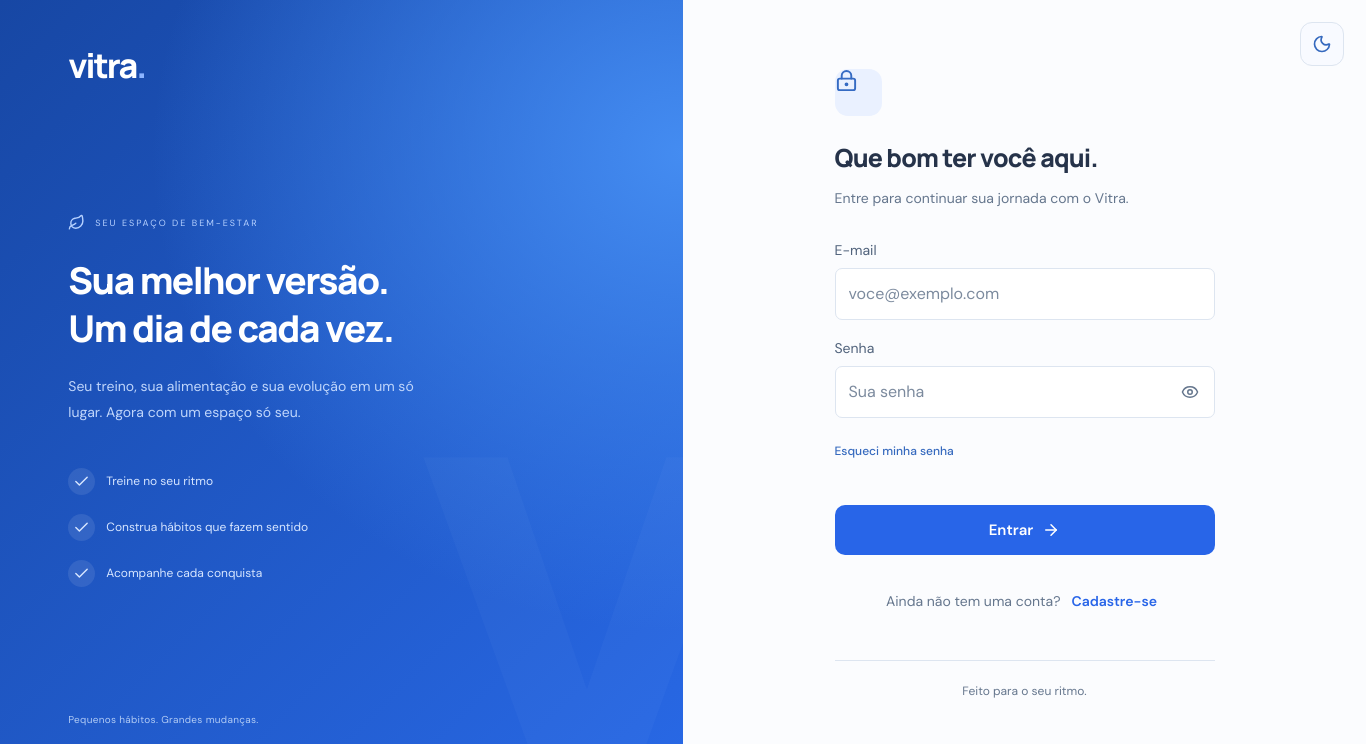
Autenticação › não envia cadastro com confirmação de senha diferente
Click the button "Cadastre-se" at coordinates (1114, 601), box [1066,579,1163,623]
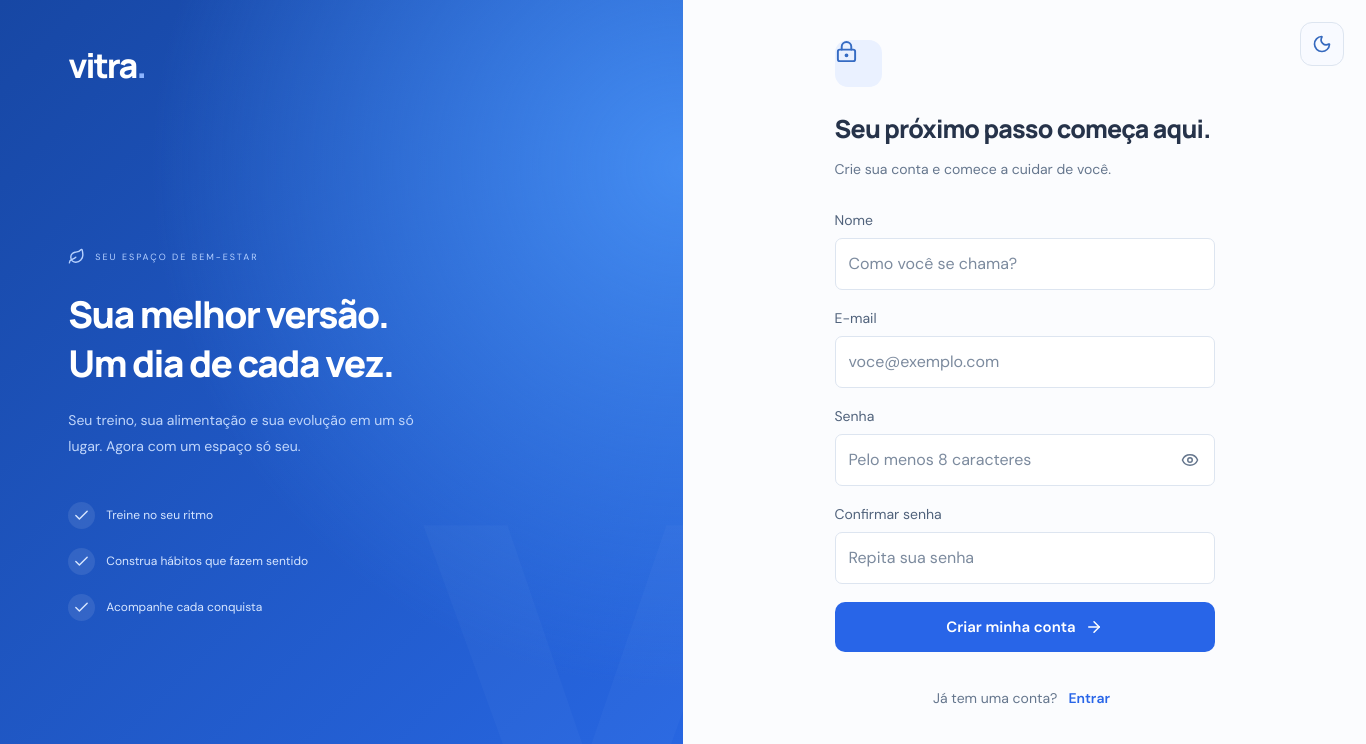
Type "Rafael" into the field labelled "Nome" at coordinates (1024, 264), box [834,238,1214,290]
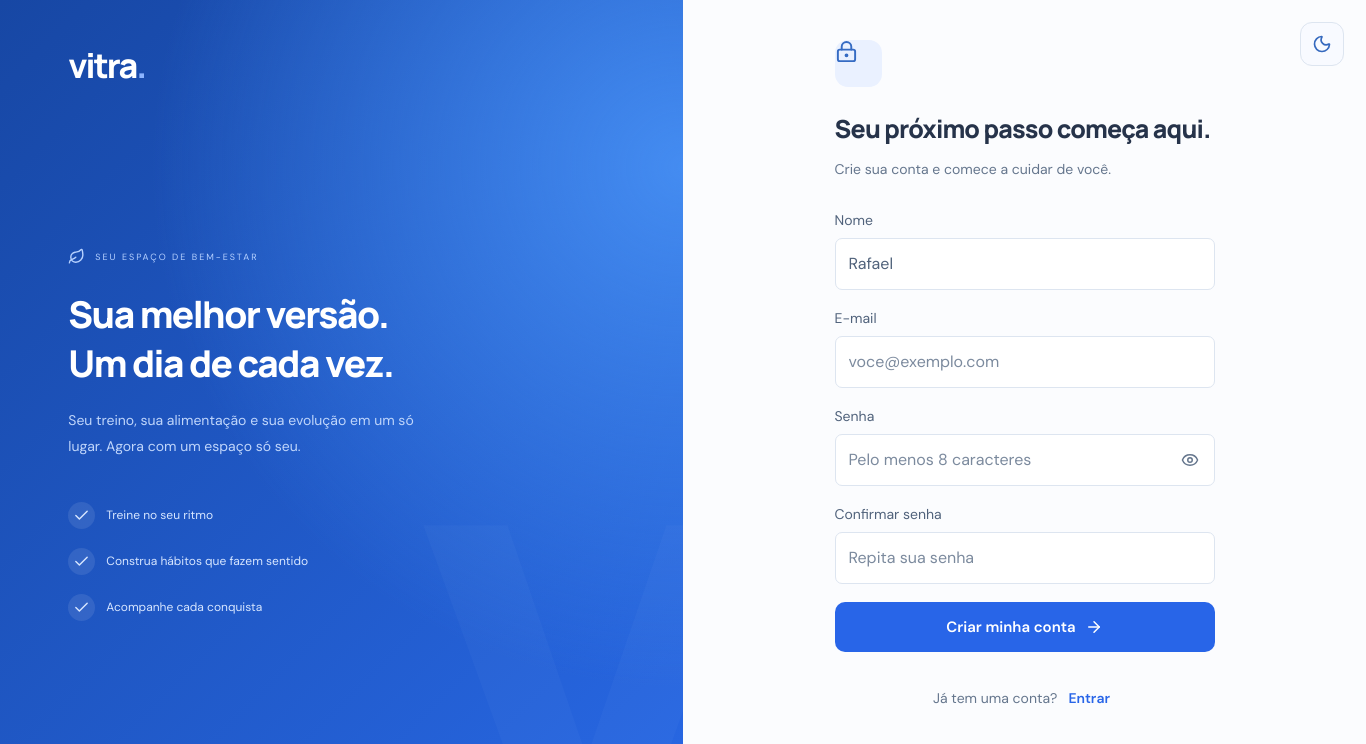
Type "rafael@example.com" into the field labelled "E-mail" at coordinates (1024, 362), box [834,336,1214,388]
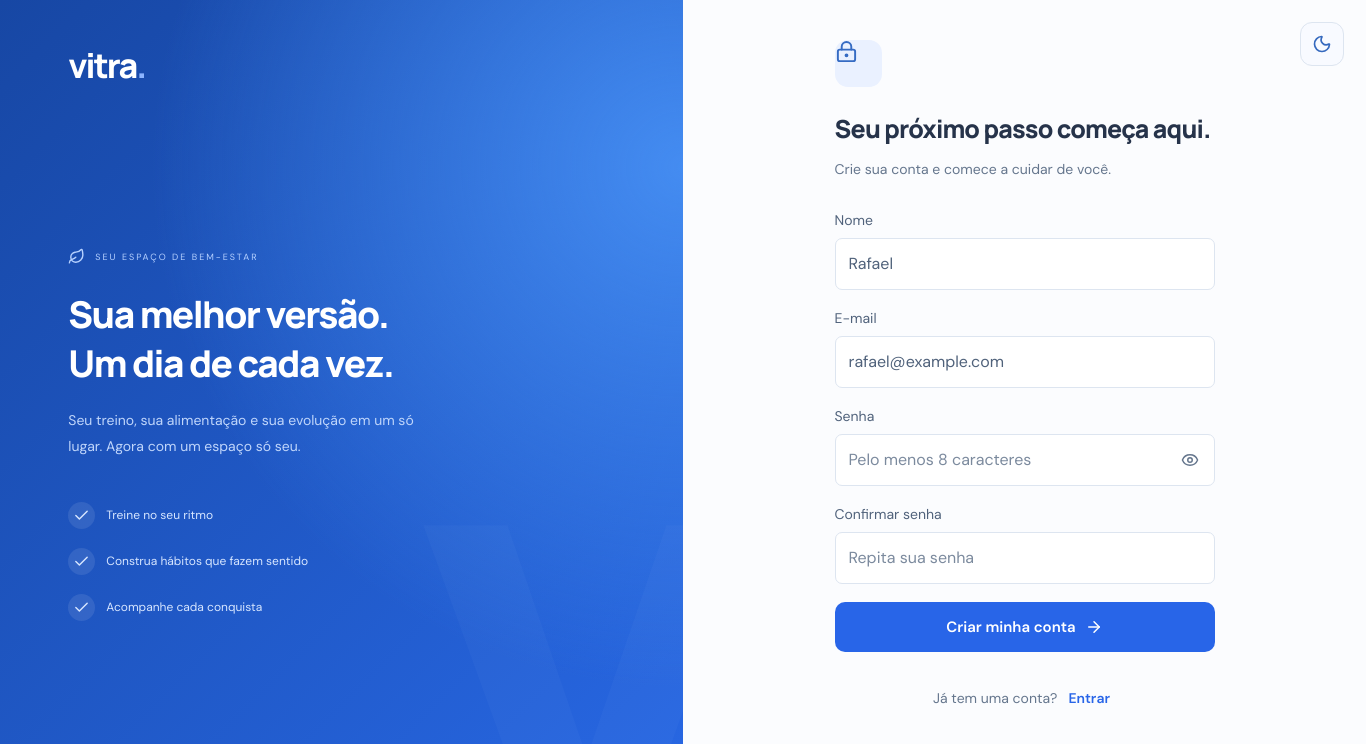
Type "password-one" into the password field labelled "Senha" at coordinates (1024, 460), box [834,434,1214,486]
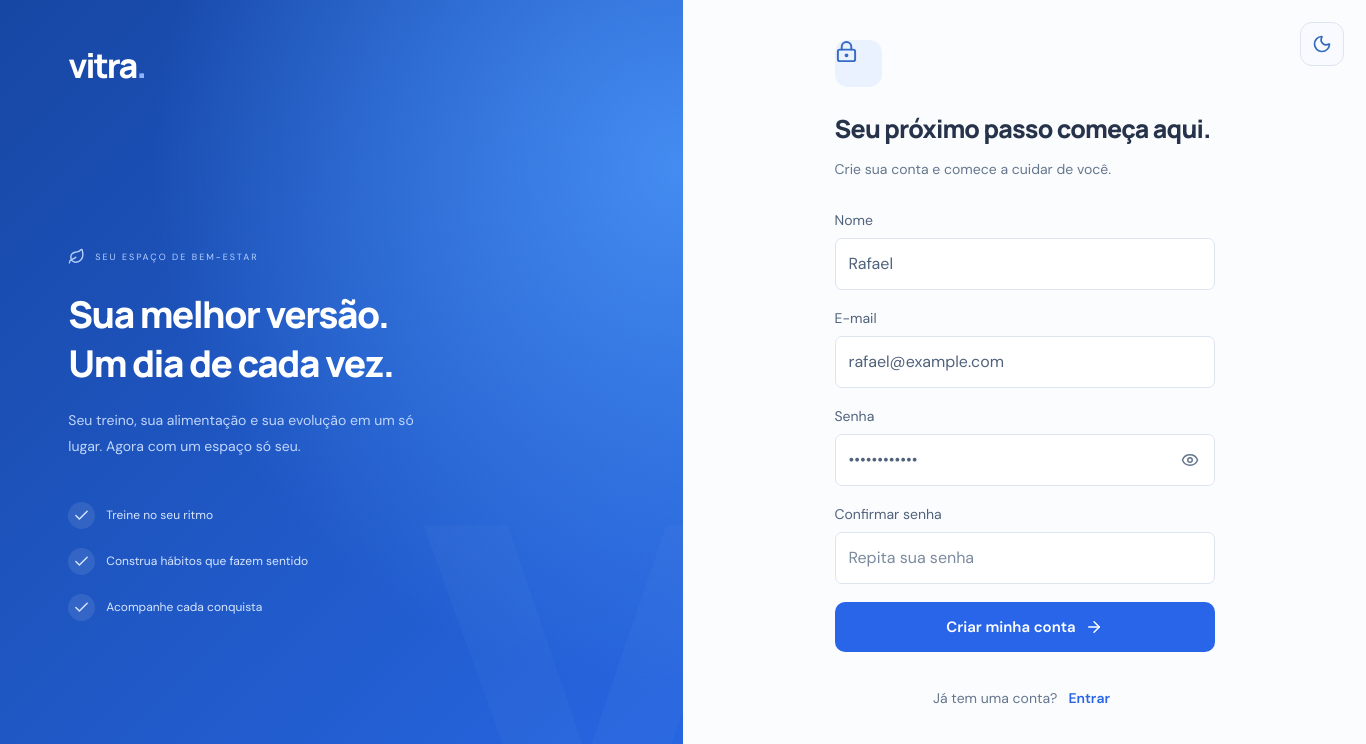
Type "password-two" into the password field labelled "Confirmar senha" at coordinates (1024, 558), box [834,532,1214,584]
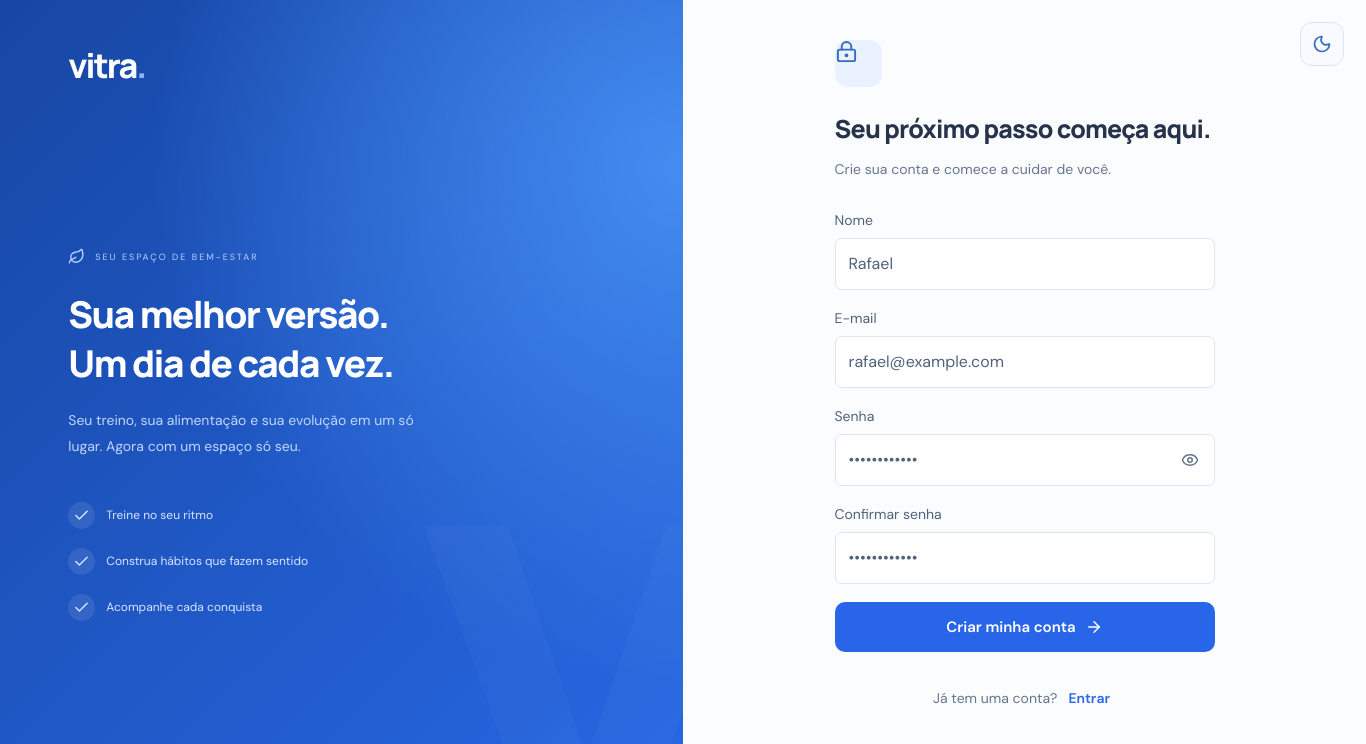
Click the button "Criar minha conta" at coordinates (1024, 627), box [834,602,1214,652]
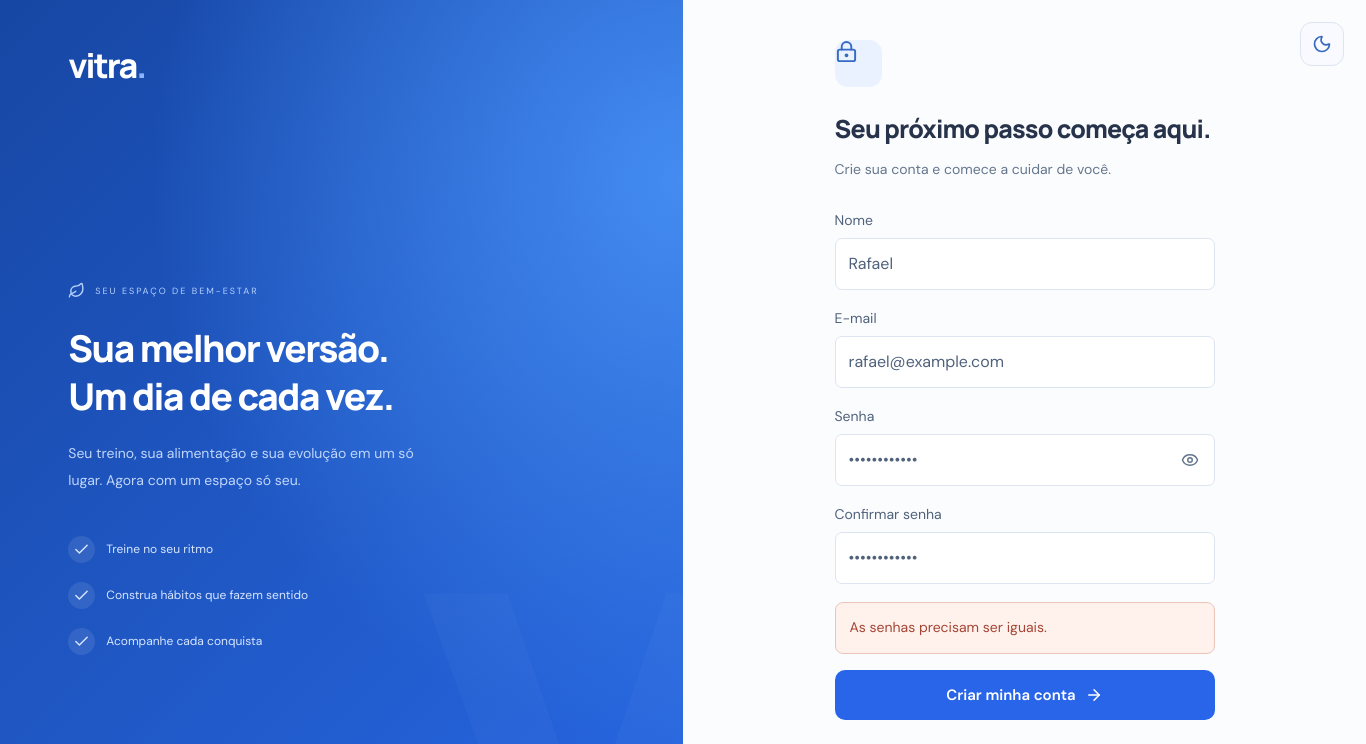
Expected: the message reads "As senhas precisam ser iguais.", [850,618,1047,636]
